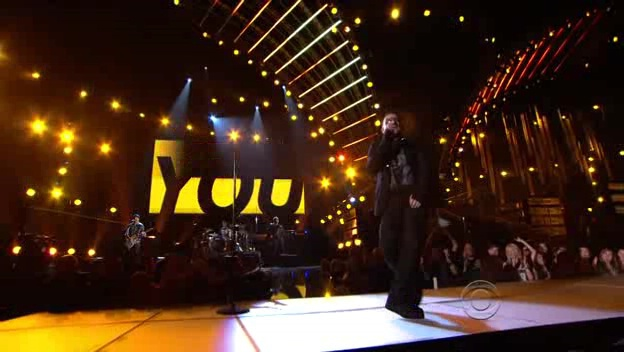person: (364, 109, 431, 221), (361, 109, 428, 221), (367, 109, 434, 221), (364, 106, 431, 218), (364, 112, 431, 224)
target_negative: (313, 199, 568, 302), (187, 221, 411, 245), (152, 258, 290, 294), (56, 335, 305, 351), (40, 344, 289, 352)
